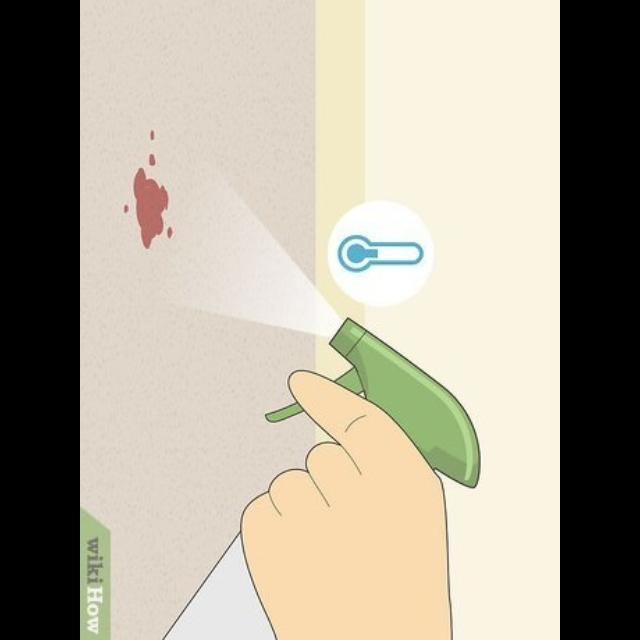blood: (133, 166, 168, 249)
